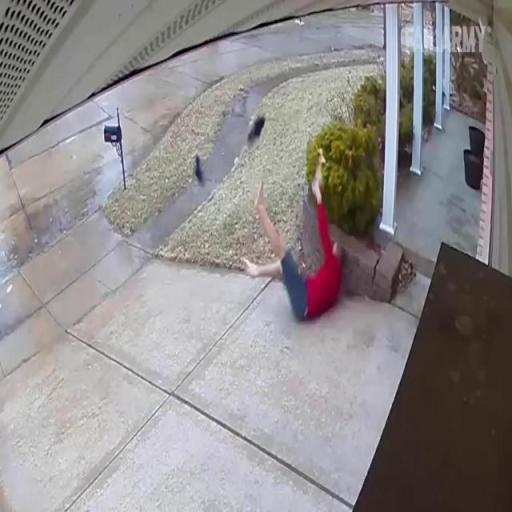Fall: (239, 181, 347, 323)
